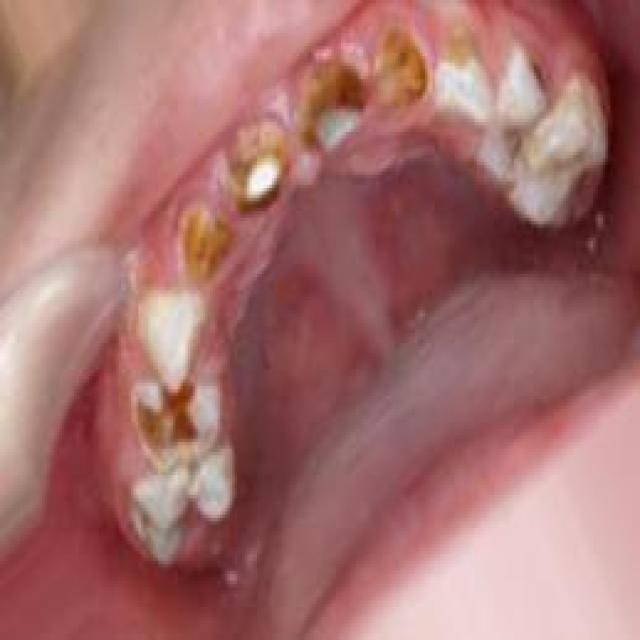caries: (123, 365, 223, 477), (292, 52, 375, 156), (225, 110, 295, 224), (368, 20, 436, 129), (164, 194, 233, 287), (436, 24, 490, 120), (511, 42, 562, 112)
